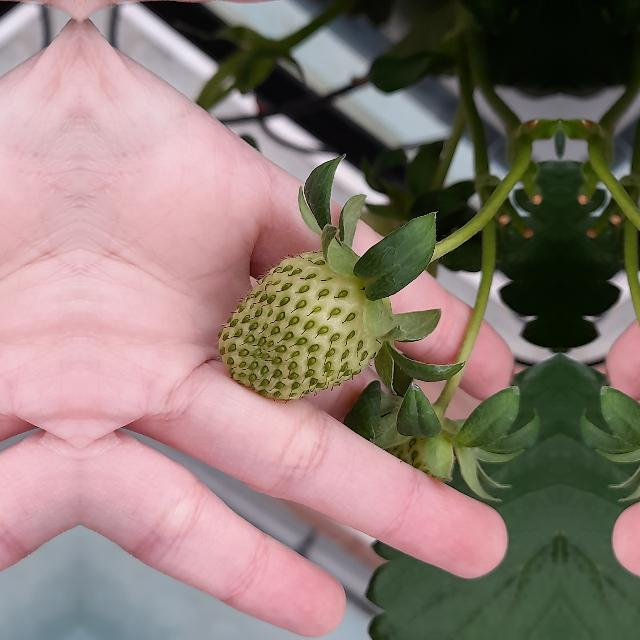Health_25: (218, 251, 384, 401)
